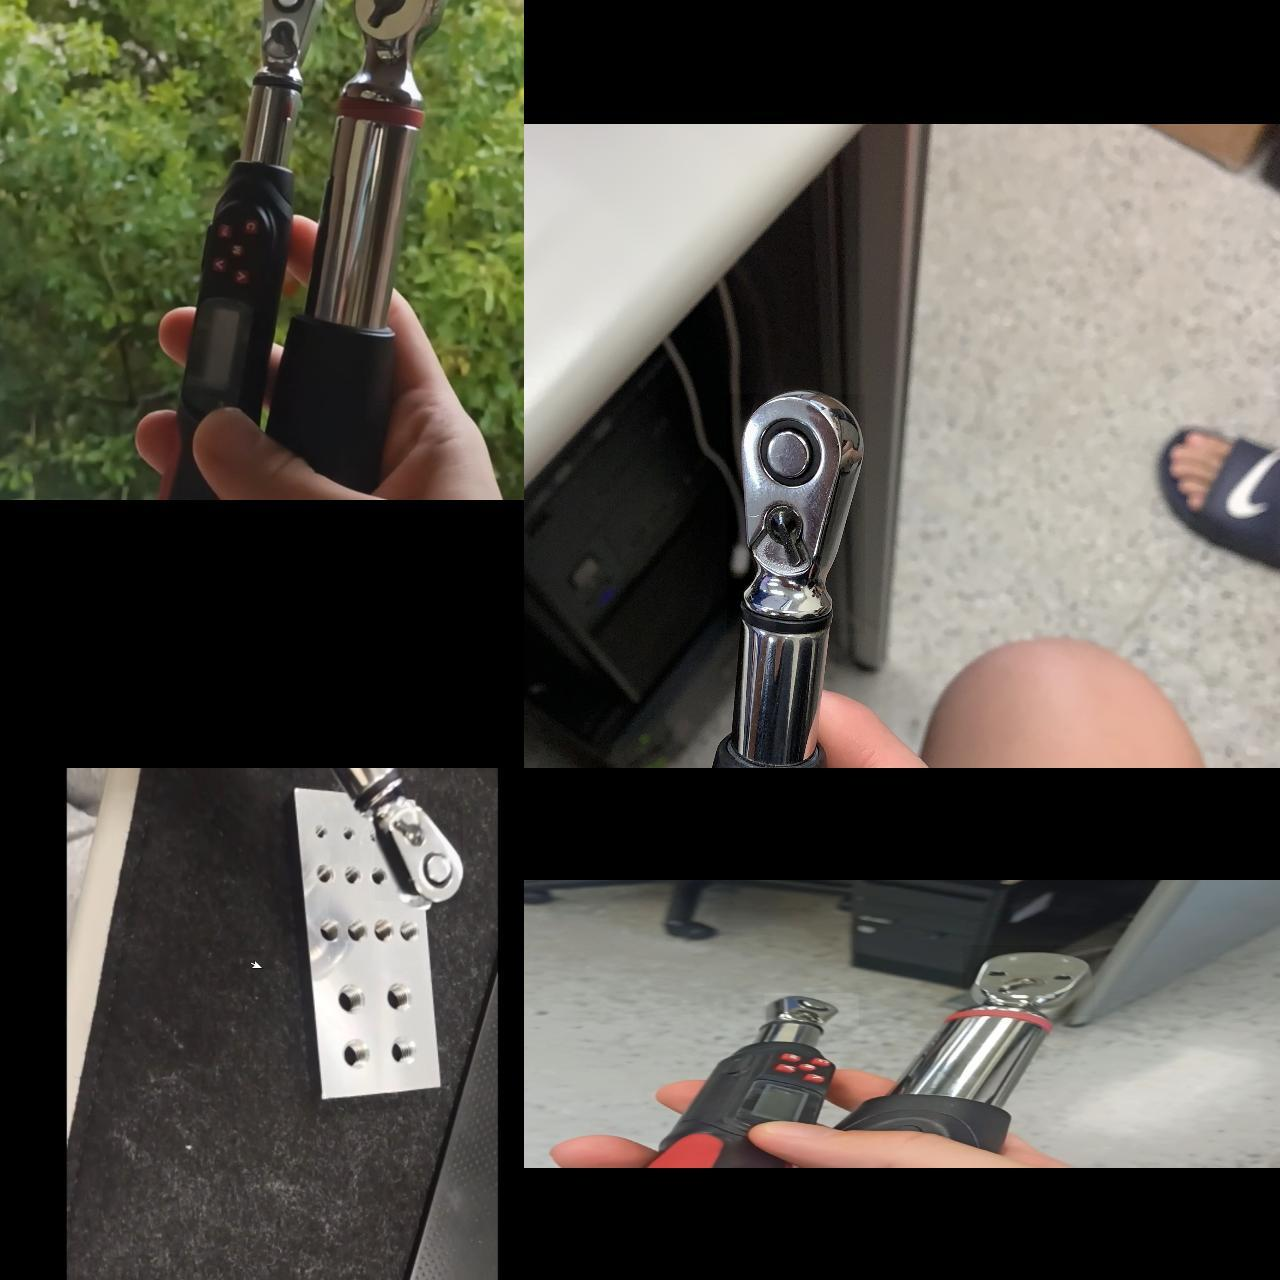Tool: (726, 394, 864, 634), (338, 0, 459, 109), (374, 791, 462, 901), (961, 945, 1095, 1016), (259, 0, 321, 84), (763, 993, 858, 1026)
